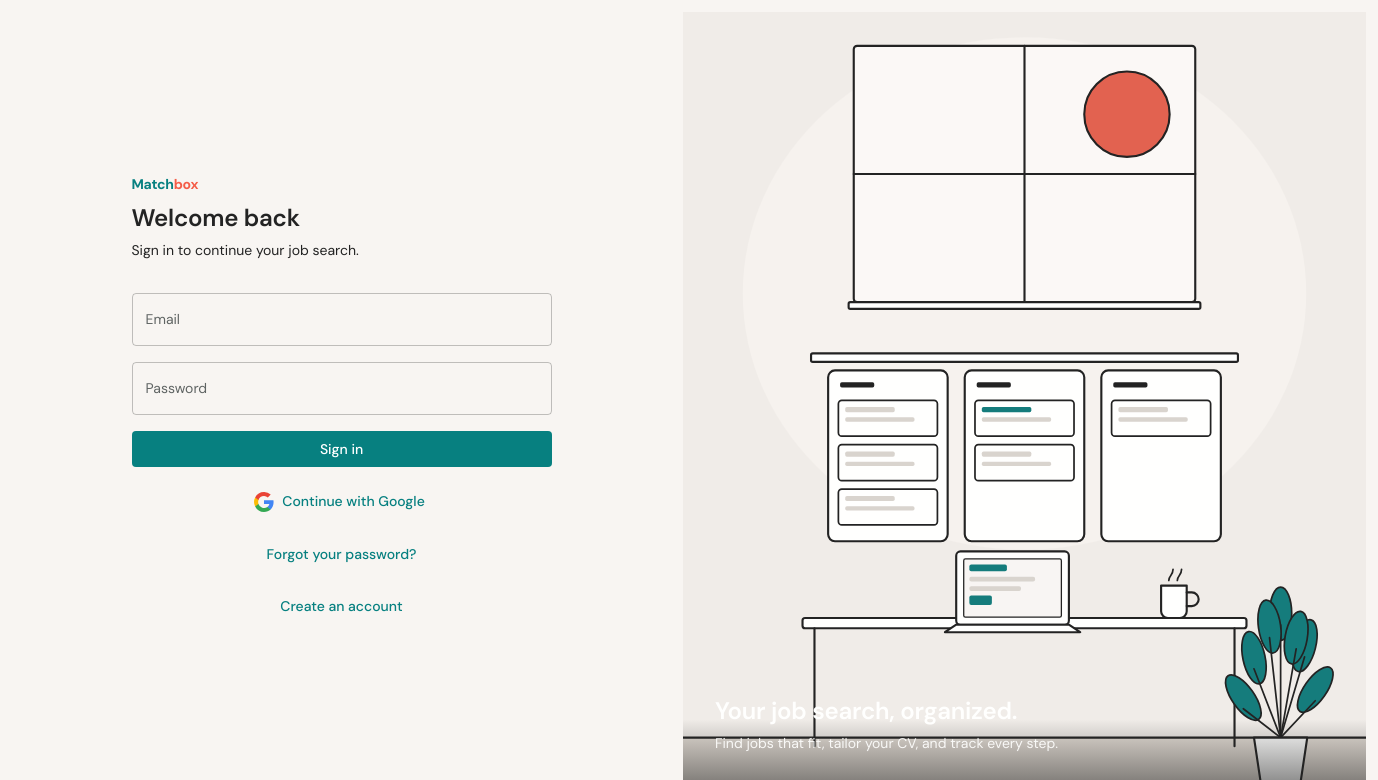
Test case: LoginPage › should show validation errors when required fields are missing
Click the button "Sign in": x=342, y=449 [132,431,552,467]
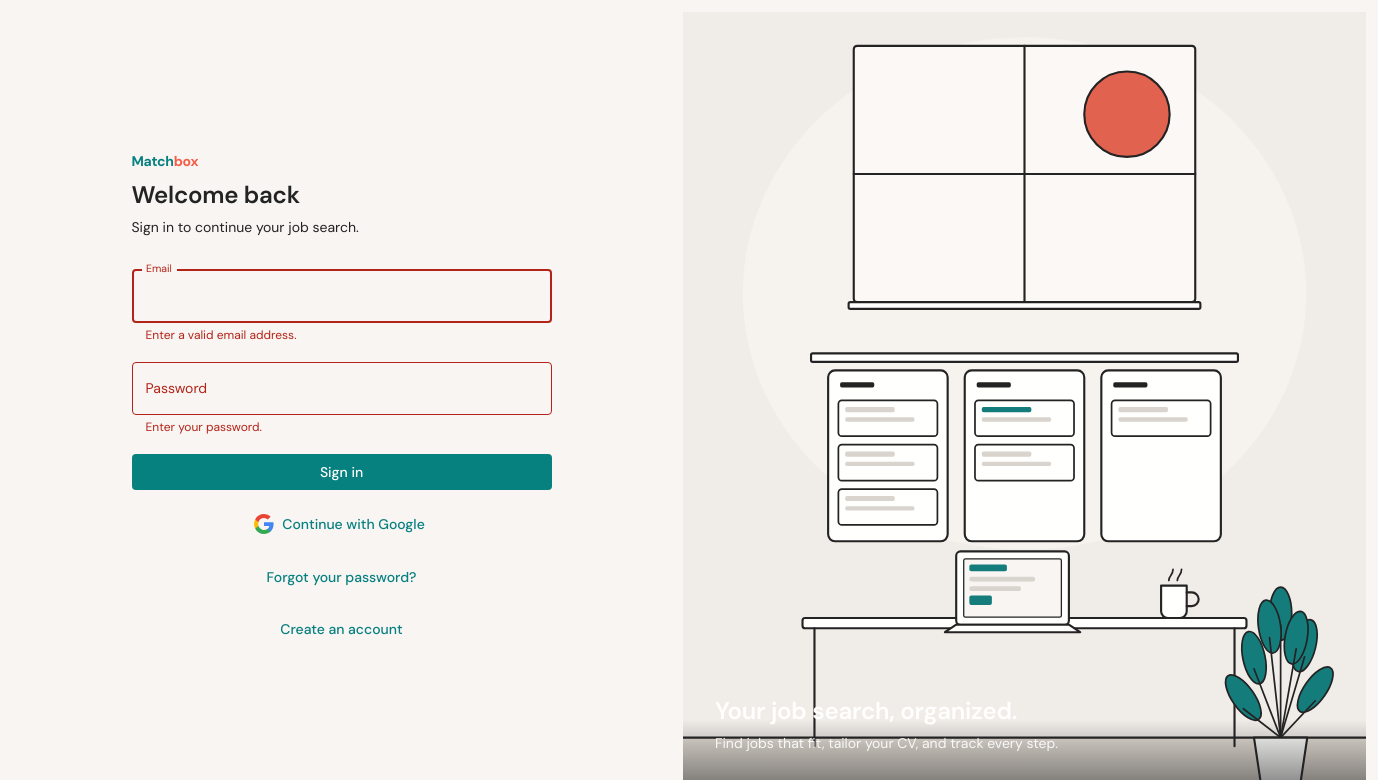
Expected: the text "Enter a valid email address." is shown, [146,327,296,343]
Expected: the text "Enter your password." is shown, [146,419,262,435]
